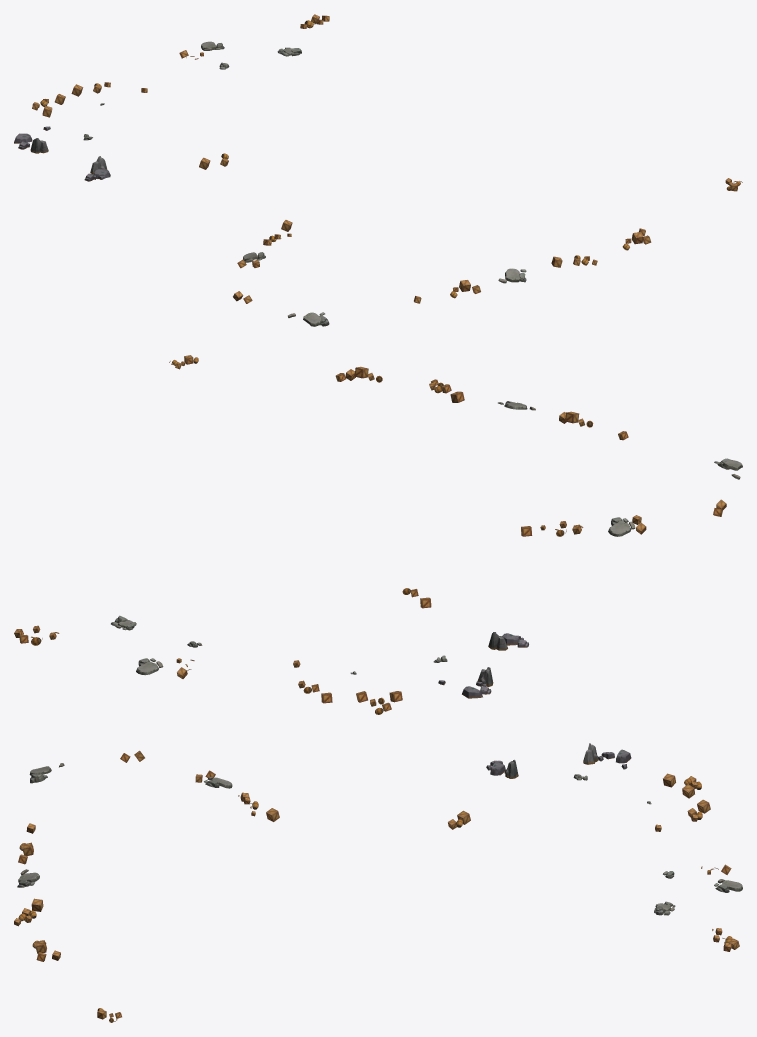
The model's file is wujian5.fbx.
3 views of the same model, one above another, from view 1: azimuth 30°, elevation 25°; view 2: azimuth 150°, elevation 25°; view 3: azimuth 270°, elevation 25° (orthographic). The views are drawn at different scales.
Parts seen in each view (by area): view 1: wujian5; view 2: wujian5; view 3: wujian5.
Part boxes in pixels (bbox=[...]): wujian5: bbox=[14, 14, 742, 326]; wujian5: bbox=[14, 355, 742, 714]; wujian5: bbox=[14, 743, 742, 1022].
Bounding box in the file's own units: 16727 × 558 × 18749.
